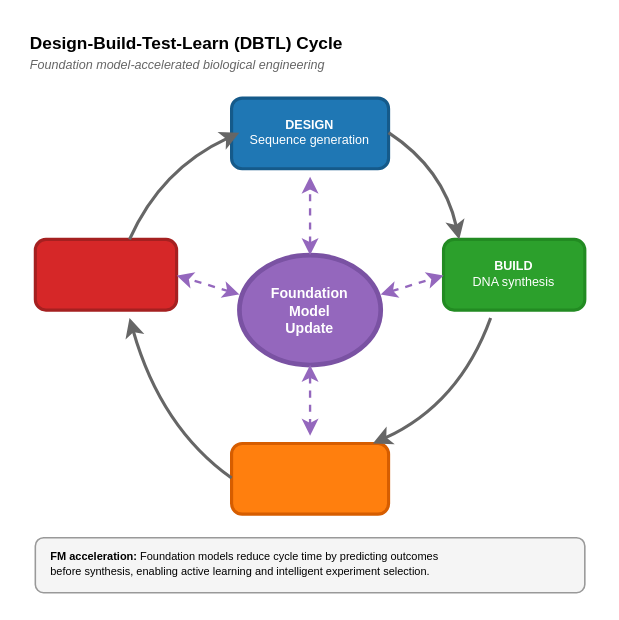
Some shapes in this 619 by 620 pixel diagram are drawn without their labels. Each missing label, with the centre of its shape:
LEARN Model refinement: (105,274)
TEST High-throughput assay: (309,478)
